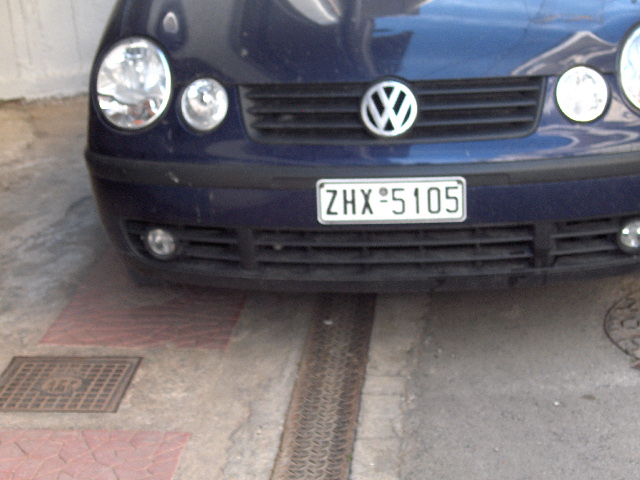licenseplate: (314, 176, 468, 225)
